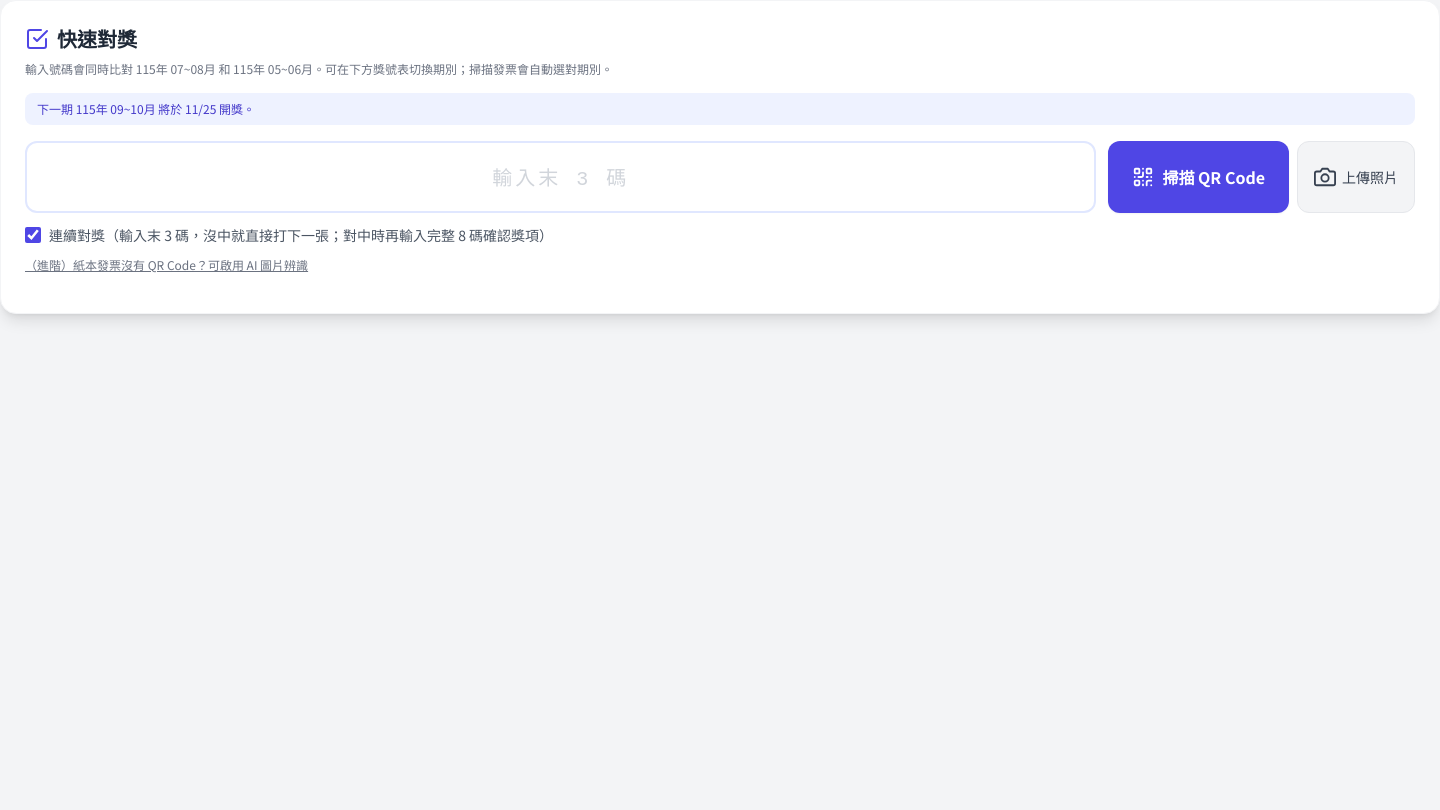
Test: 快速對獎畫面 › 末 3 碼與頭獎相同：顯示至少六獎，提示輸入完整號碼
The image size is (1440, 810).
Click the checkbox labelled "連續對獎（輸入末 3 碼，沒中就直接打下一張；對中時再輸入完整 8 碼確認獎項）": (33, 235) [25,227,41,243]
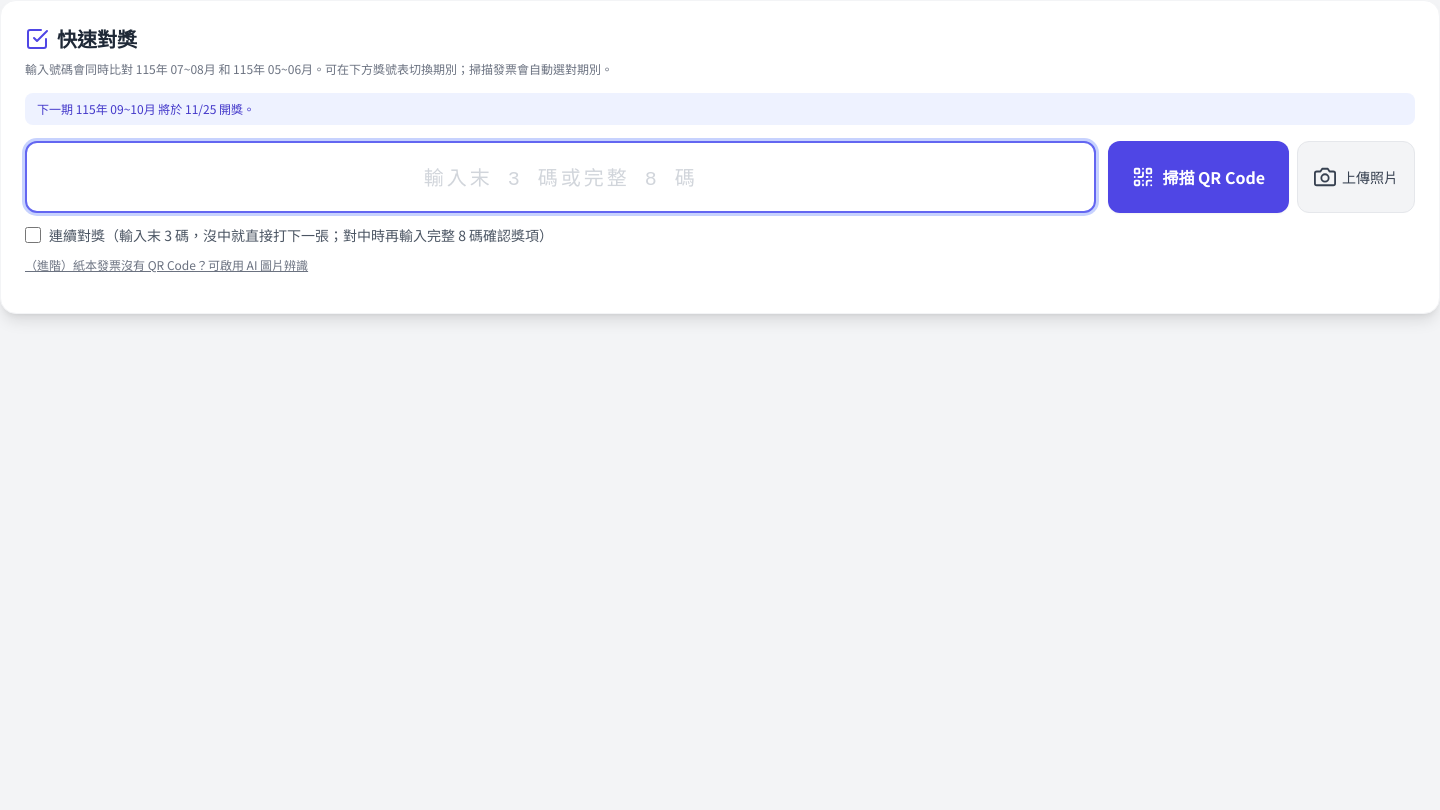
In the field named "發票號碼": (561, 177) [25,141,1096,213], type "835"
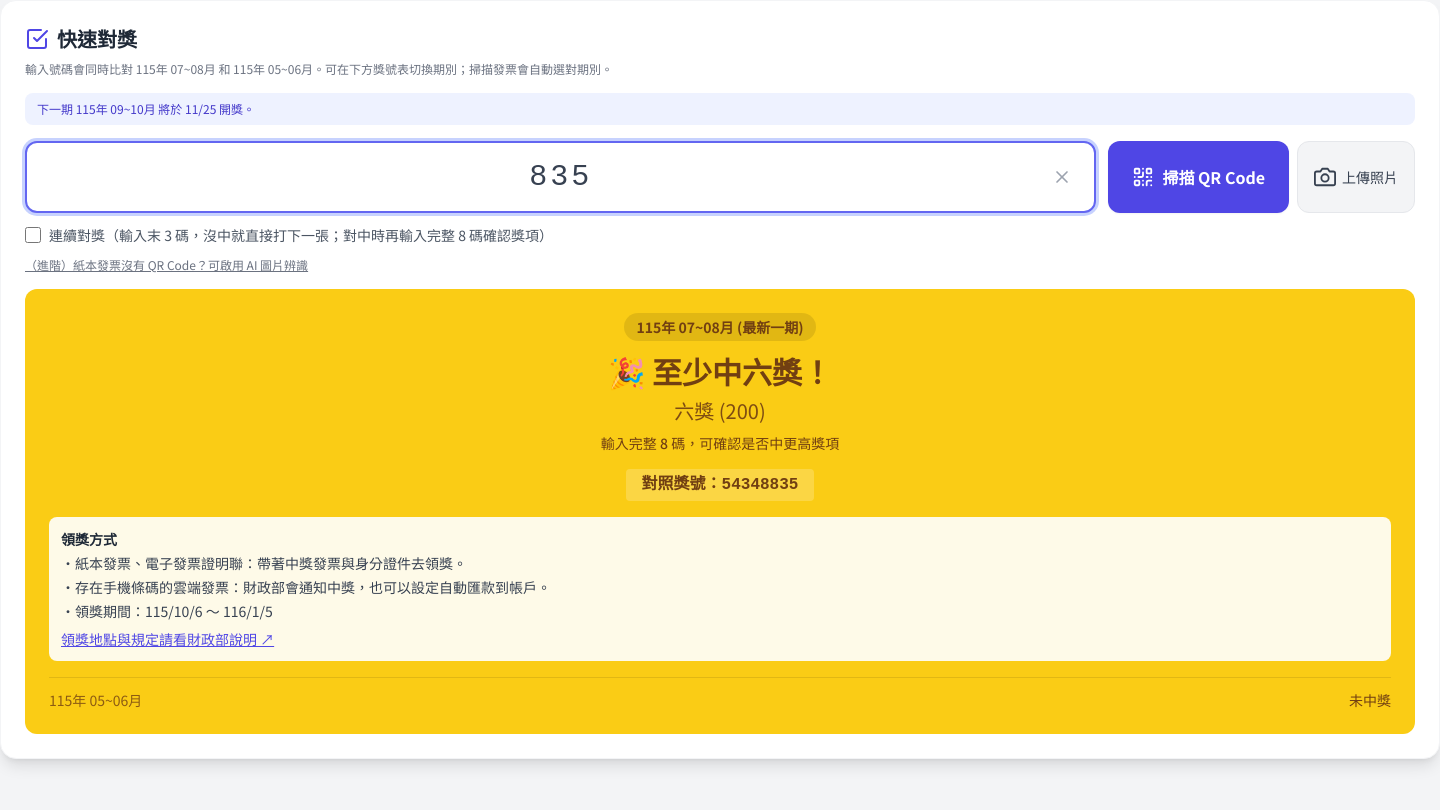
Check: the text "🎉 至少中六獎！" is shown, box [608,349,832,393]
Check: the text "輸入完整 8 碼，可確認是否中更高獎項" is shown, box [601,433,839,453]
